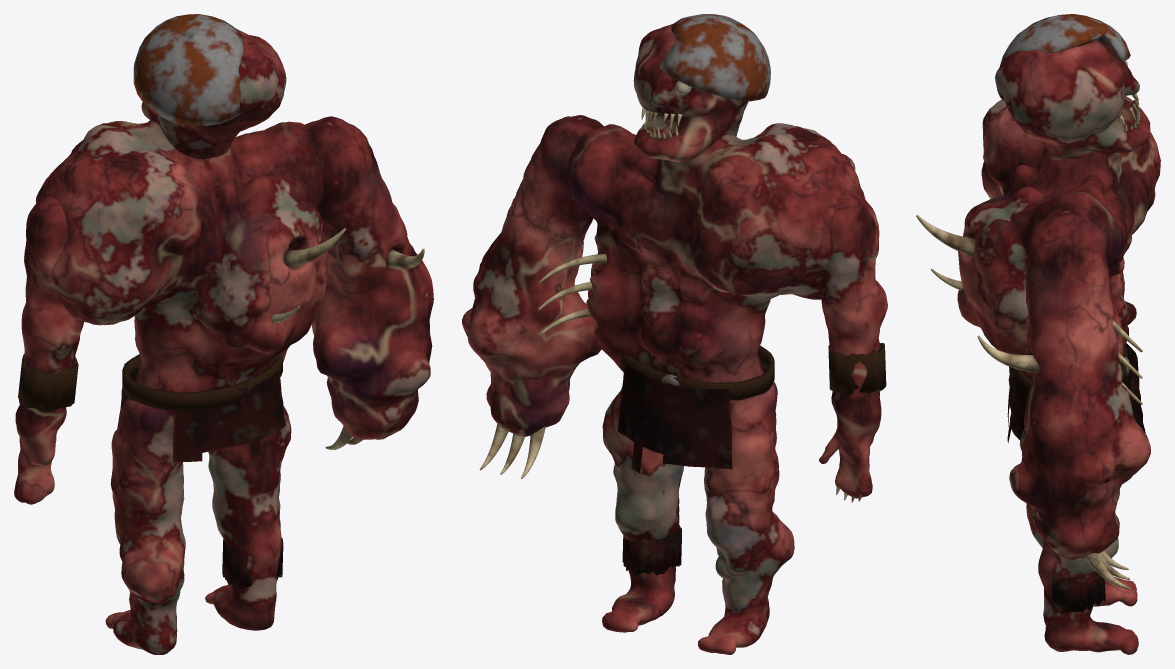
Rendered from Enfleshed_Basic.glb.
The picture shows the model from 3 angles, left to right: view 1: azimuth 30°, elevation 25°; view 2: azimuth 150°, elevation 25°; view 3: azimuth 270°, elevation 25°; orthographic projection. The views are drawn at different scales.
Visible parts, largest first — view 1: Torso, Right Arm, Head, Left Leg, Left Arm, Right Leg; view 2: Torso, Right Arm, Head, Left Leg, Left Arm, Right Leg; view 3: Right Arm, Torso, Head, Right Leg, Left Leg.
Part boxes in pixels (x1,y1,x2,y2): Torso: (35,119,345,462); Right Arm: (305,116,433,449); Head: (133,14,286,158); Left Leg: (105,397,185,654); Left Arm: (14,196,83,504); Right Leg: (205,405,291,630); Torso: (538,123,879,473); Right Arm: (462,115,603,478); Head: (633,14,770,162); Left Leg: (698,382,794,654); Left Arm: (819,191,887,502); Right Leg: (602,387,683,632); Right Arm: (977,207,1150,589); Torso: (916,96,1160,473); Head: (995,14,1150,158); Right Leg: (1038,538,1138,654); Left Leg: (1026,489,1137,606).
Size of the model in its own units: 5.74 by 8.27 by 3.03.
1 material, 1 textured.
